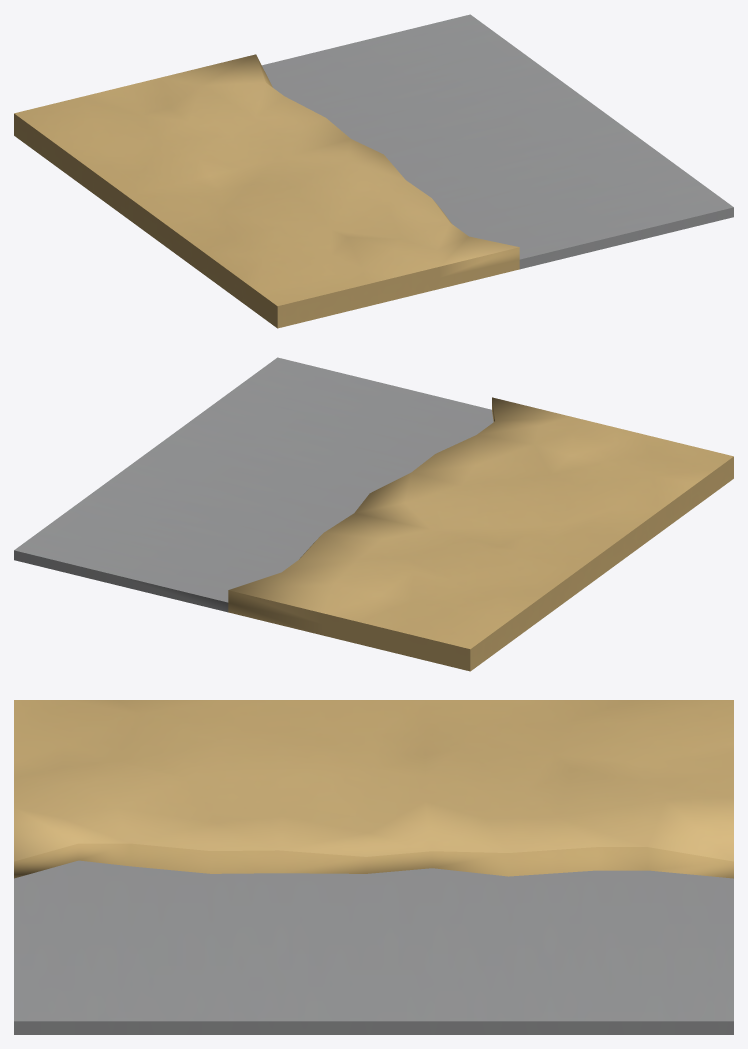
Rendered from ground_road_1_L.dae.
3 views of the same model, one above another, from view 1: azimuth 30°, elevation 25°; view 2: azimuth 150°, elevation 25°; view 3: azimuth 270°, elevation 25° (orthographic). The views are drawn at different scales.
Parts seen in each view (by area): view 1: ground_road_1_L; view 2: ground_road_1_L; view 3: ground_road_1_L.
Part boxes in pixels (box(x1,y1,x2,y2)): ground_road_1_L: box(14, 14, 733, 328); ground_road_1_L: box(14, 357, 733, 671); ground_road_1_L: box(14, 700, 733, 1034).
Bounding box in the file's own units: 2 × 2 × 0.1193.
